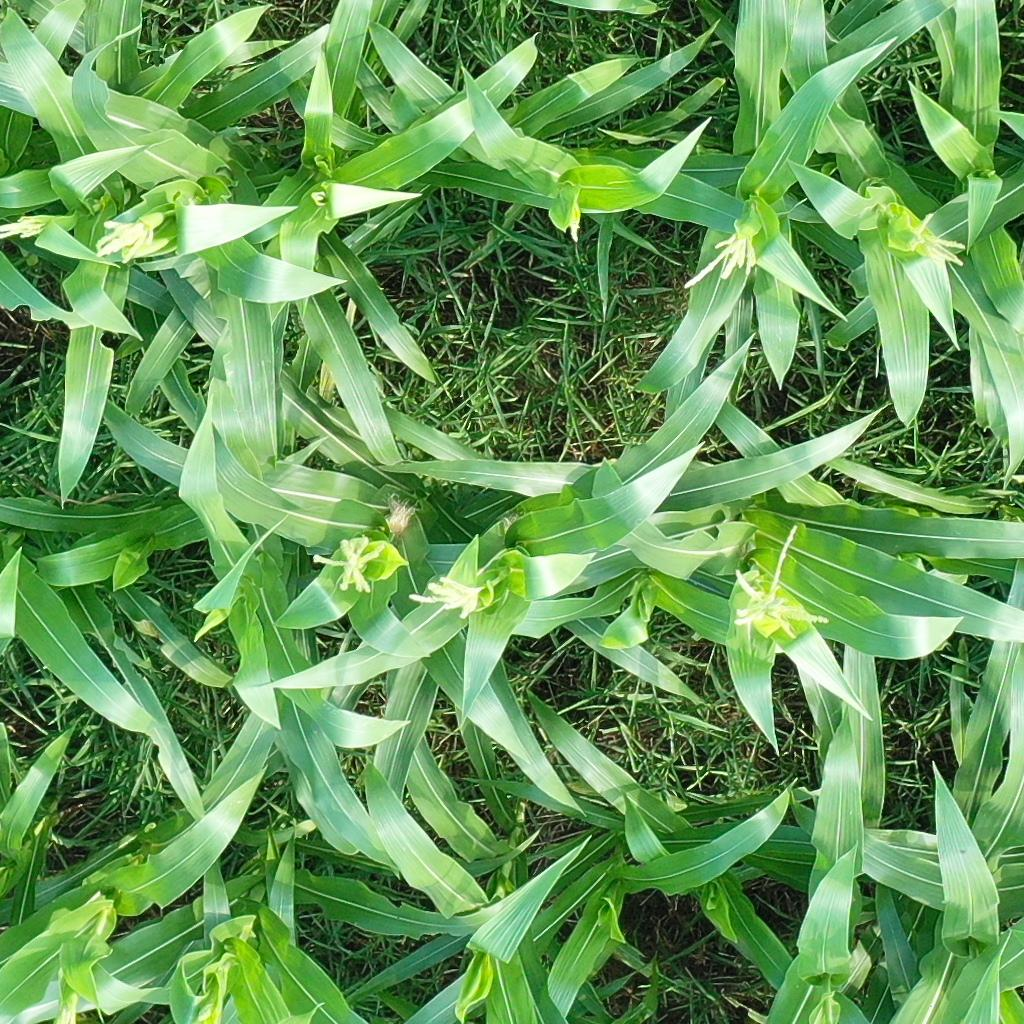Tassel: (726, 517, 831, 641), (895, 208, 972, 273), (682, 229, 761, 292), (310, 532, 385, 591), (407, 574, 496, 617), (87, 213, 155, 265), (1, 212, 44, 244), (50, 994, 86, 1024), (567, 205, 590, 244), (194, 1000, 221, 1024)
